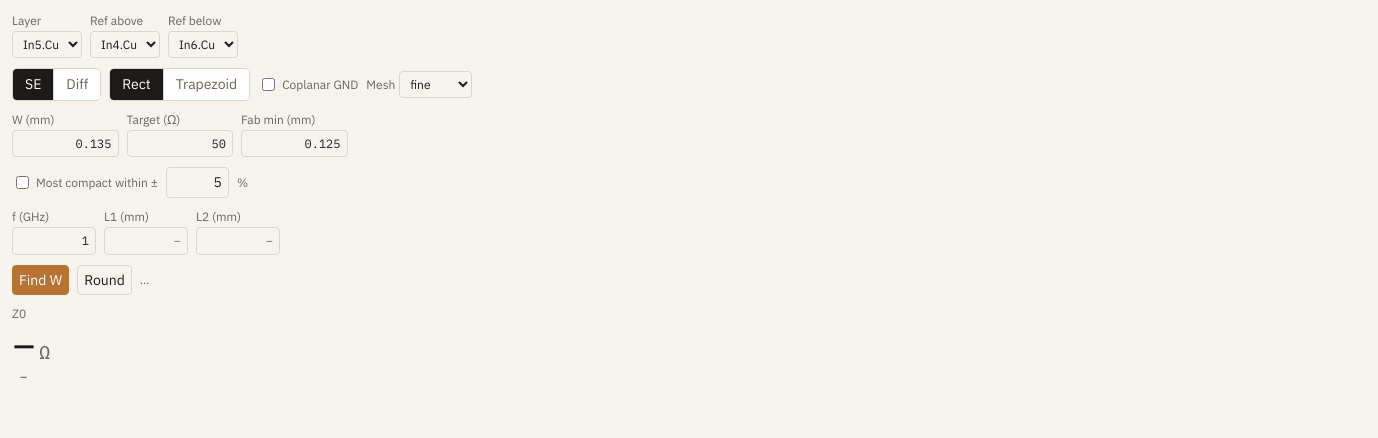
Scenario: Calculator › a search that errors also re-analyses the current inputs
Replace the text in the field named "Width W" with "0.2": (65, 144) [12,130,118,158]
Wait 260 ms
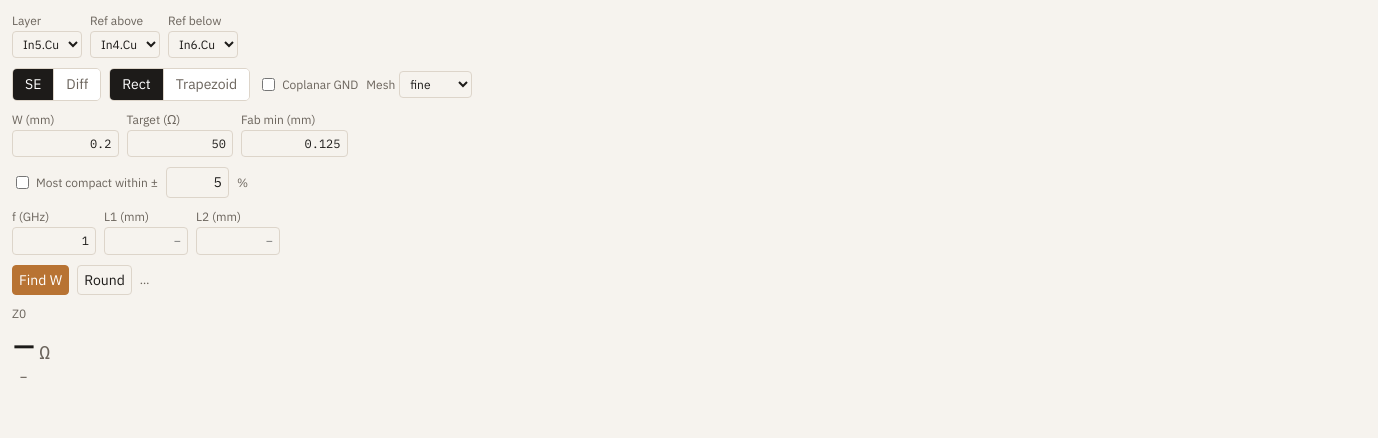
Click the button "Find W": click(41, 280) [12,264,69,295]
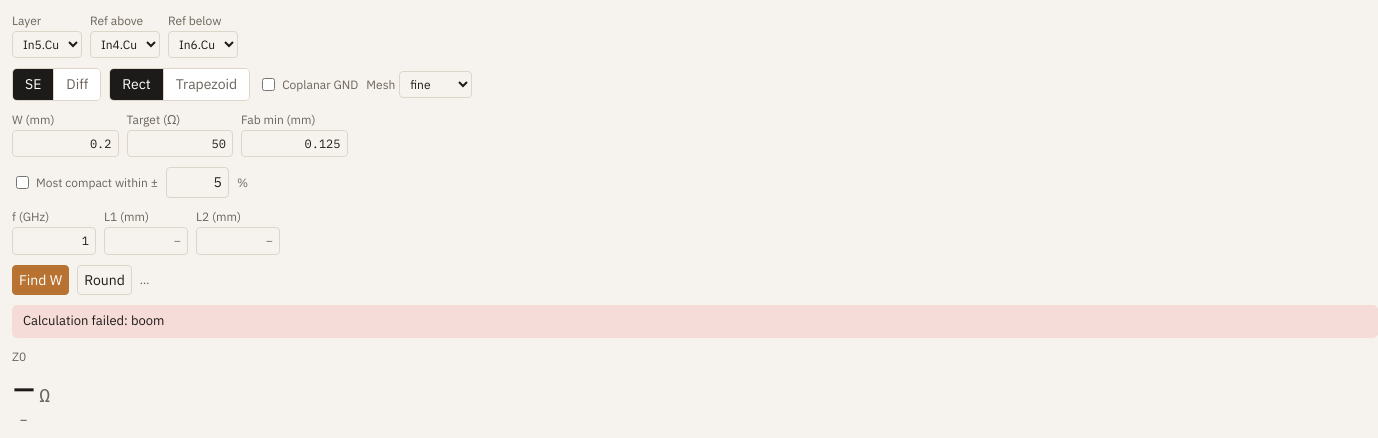
Result: the text "Calculation failed: boom" is shown at [23,312,164,329]
